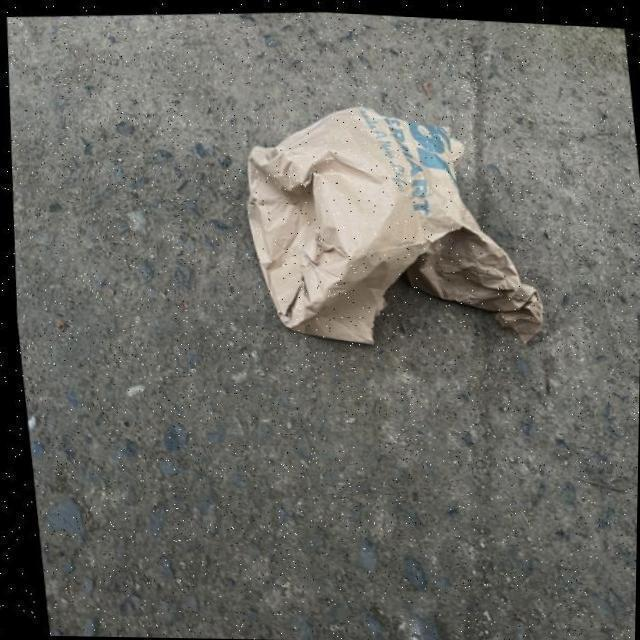Paper_Bag: (232, 86, 552, 356)
